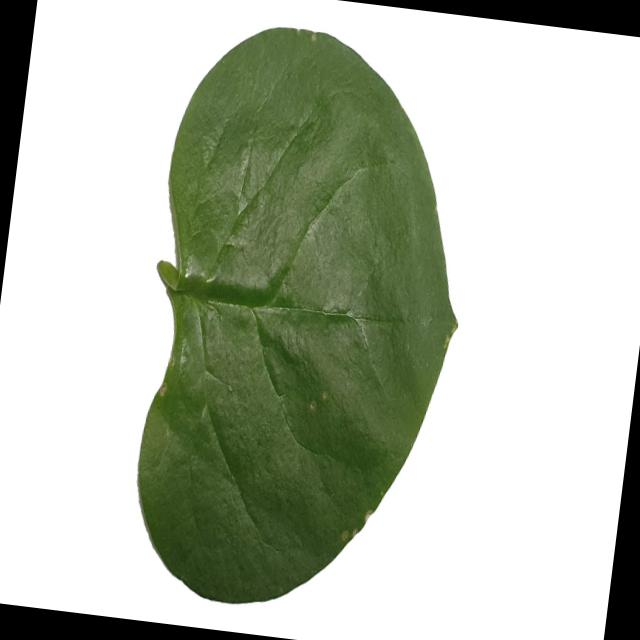Medicinal-Basale: (116, 12, 493, 627)
